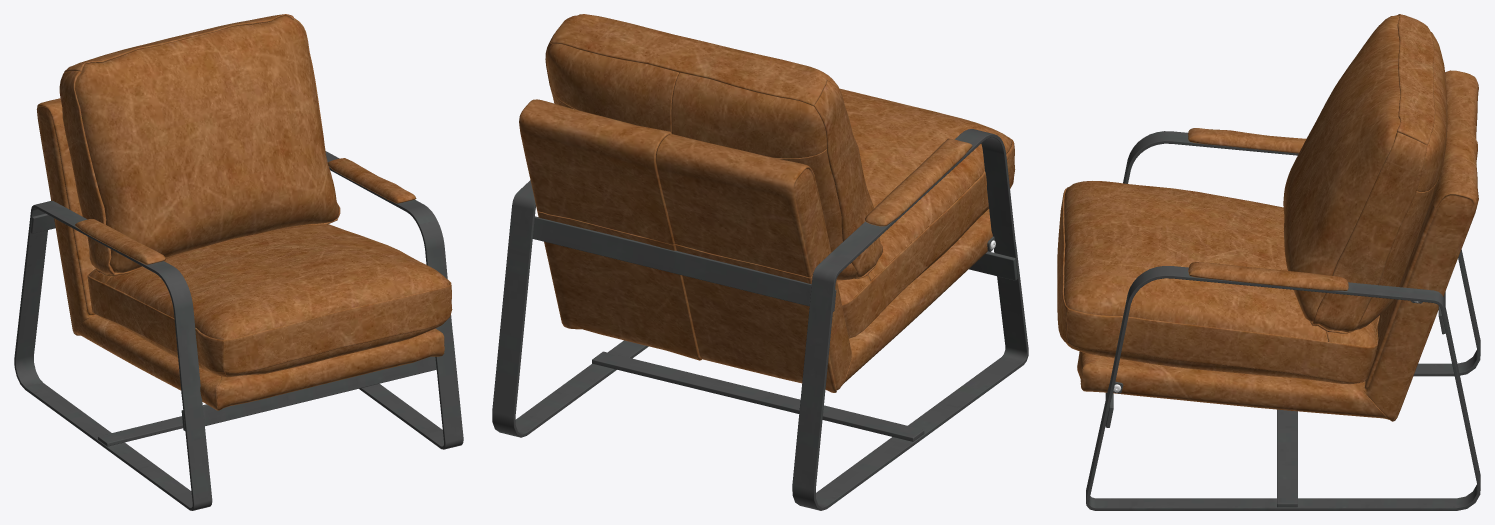
3 views of the same model, side by side, from view 1: azimuth 30°, elevation 25°; view 2: azimuth 150°, elevation 25°; view 3: azimuth 270°, elevation 25° (orthographic). The views are drawn at different scales.
Visible parts, largest first — view 1: RootNode; view 2: RootNode; view 3: RootNode.
Boxes of the visible parts, bbox=[...] form: RootNode: bbox=[14, 14, 463, 510]; RootNode: bbox=[492, 14, 1028, 510]; RootNode: bbox=[1057, 14, 1480, 510].
Size of the model in its own units: 0.6511 by 0.7772 by 0.8007.
Materials: 1 (1 with a texture image).
